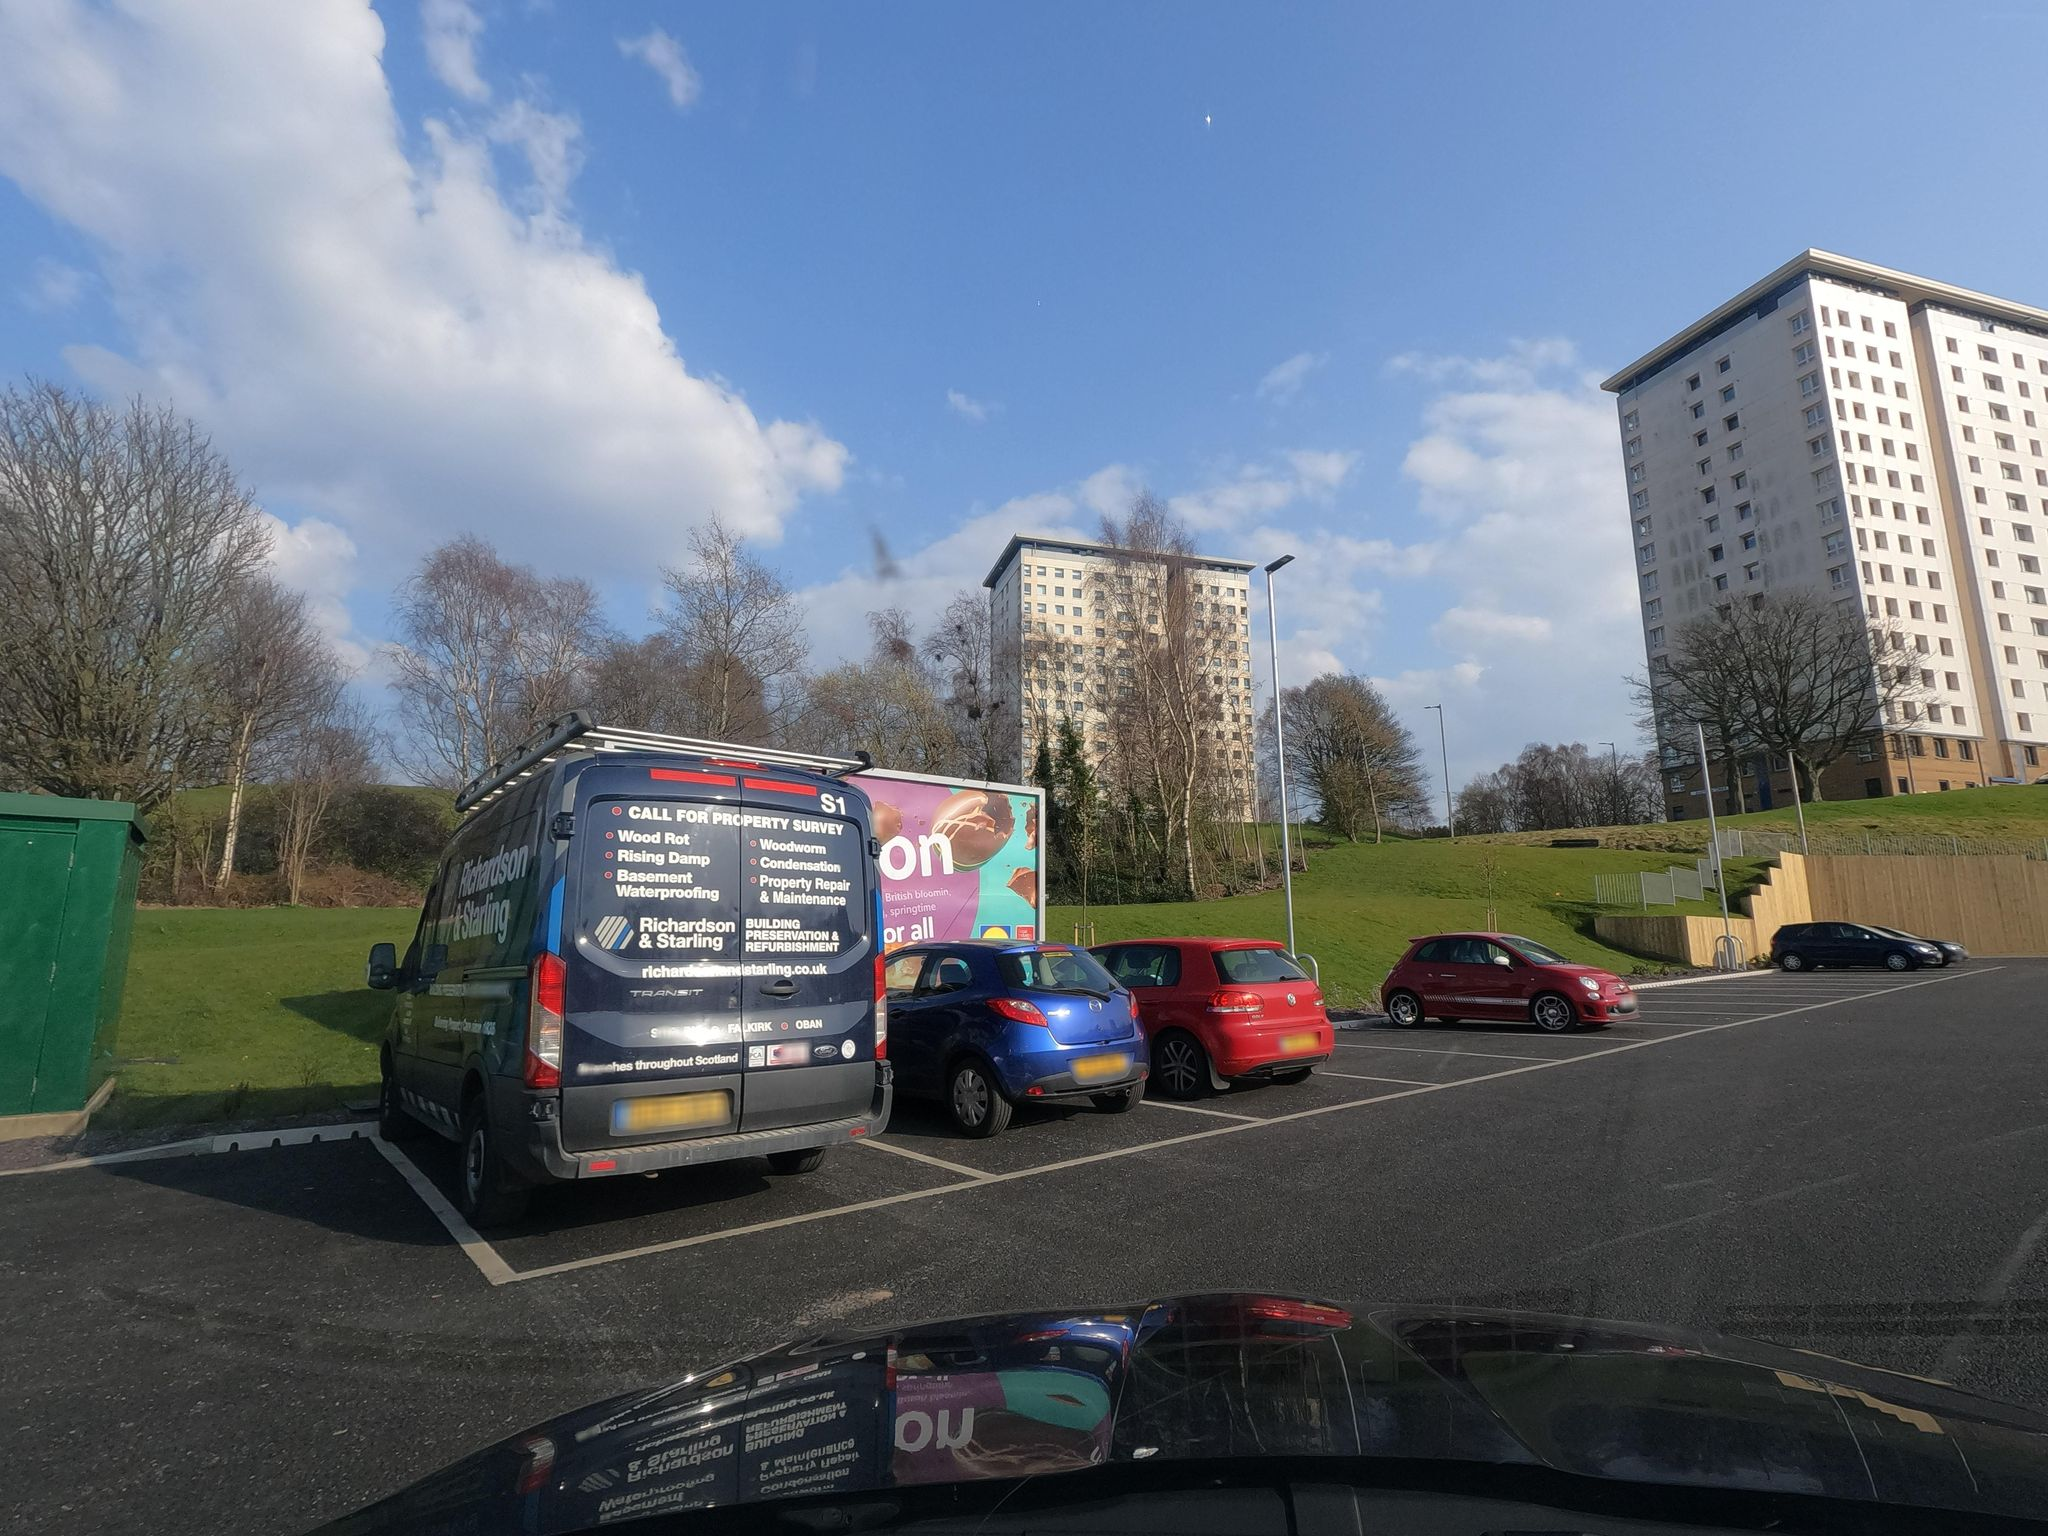car: (368, 707, 898, 1228), (871, 934, 1153, 1141), (1080, 936, 1335, 1102), (1380, 929, 1642, 1034), (1769, 921, 1945, 971), (1871, 925, 1969, 966)
